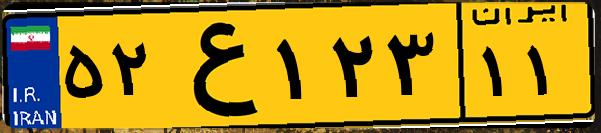1: (270, 28, 330, 110), (475, 38, 525, 113), (525, 38, 570, 115)
2: (330, 28, 385, 110), (110, 28, 158, 98)
3: (385, 28, 445, 110)
5: (57, 26, 110, 100)
ع: (158, 12, 270, 120)
